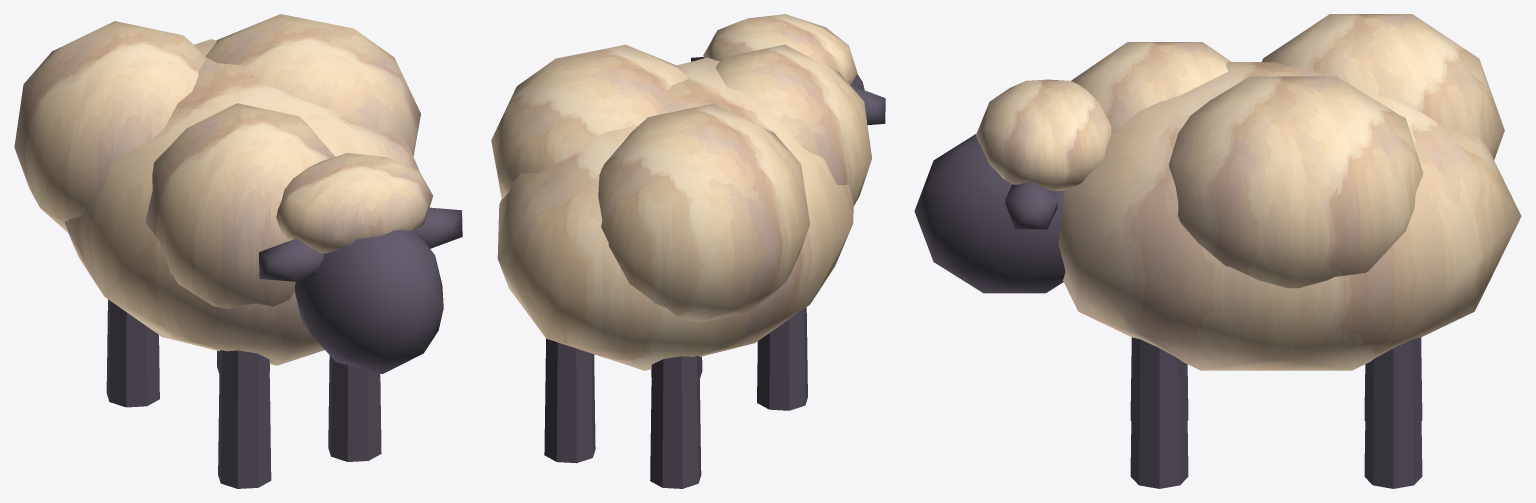
File: sheep.glb
3 views of the same model, side by side, from view 1: azimuth 30°, elevation 25°; view 2: azimuth 150°, elevation 25°; view 3: azimuth 270°, elevation 25° (orthographic). The views are drawn at different scales.
Visible parts, largest first — view 1: Wool body, Broad wool tuft.002, Broad wool tuft, Dark face, Broad wool tuft.001, Forehead wool, Short dark sheep leg.001, Short dark sheep leg.003, Short dark sheep leg, Small sheep ear, Small sheep ear.001; view 2: Wool body, Broad wool tuft, Broad wool tuft.001, Broad wool tuft.002, Short dark sheep leg, Short dark sheep leg.002, Forehead wool, Short dark sheep leg.001, Small sheep ear; view 3: Wool body, Broad wool tuft.001, Broad wool tuft, Dark face, Forehead wool, Short dark sheep leg.002, Short dark sheep leg.003, Broad wool tuft.002, Small sheep ear.001.
Boxes of the visible parts, x1,y1,x2,y2 form: Wool body: [64, 39, 419, 365]; Broad wool tuft.002: [146, 103, 335, 308]; Broad wool tuft: [14, 21, 205, 232]; Dark face: [294, 229, 443, 373]; Broad wool tuft.001: [206, 14, 420, 155]; Forehead wool: [276, 153, 432, 253]; Short dark sheep leg.001: [218, 350, 271, 488]; Short dark sheep leg.003: [328, 355, 381, 461]; Short dark sheep leg: [106, 299, 159, 407]; Small sheep ear: [259, 238, 324, 281]; Small sheep ear.001: [416, 207, 462, 248]; Wool body: [497, 57, 853, 370]; Broad wool tuft: [598, 103, 809, 322]; Broad wool tuft.001: [491, 44, 688, 198]; Broad wool tuft.002: [715, 44, 871, 205]; Short dark sheep leg: [650, 356, 701, 488]; Short dark sheep leg.002: [544, 338, 595, 463]; Forehead wool: [703, 14, 857, 85]; Short dark sheep leg.001: [757, 307, 807, 410]; Small sheep ear: [851, 85, 885, 124]; Wool body: [1058, 62, 1521, 370]; Broad wool tuft.001: [1168, 76, 1423, 288]; Broad wool tuft: [1262, 14, 1504, 159]; Dark face: [914, 134, 1065, 293]; Forehead wool: [975, 79, 1111, 190]; Short dark sheep leg.002: [1364, 337, 1422, 488]; Short dark sheep leg.003: [1130, 337, 1188, 488]; Broad wool tuft.002: [1071, 42, 1231, 133]; Small sheep ear.001: [1005, 181, 1057, 229].
Bounding box in the file's own units: 0.7175 × 0.78 × 1.09.
Materials: 2 (1 with a texture image).
